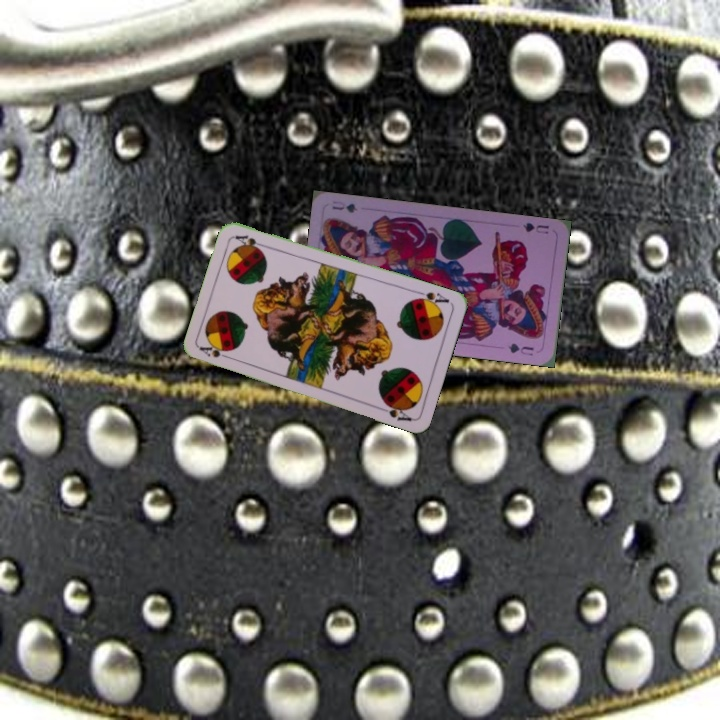GU: (519, 218, 551, 237)
SA: (411, 287, 452, 310), (196, 343, 236, 363)
